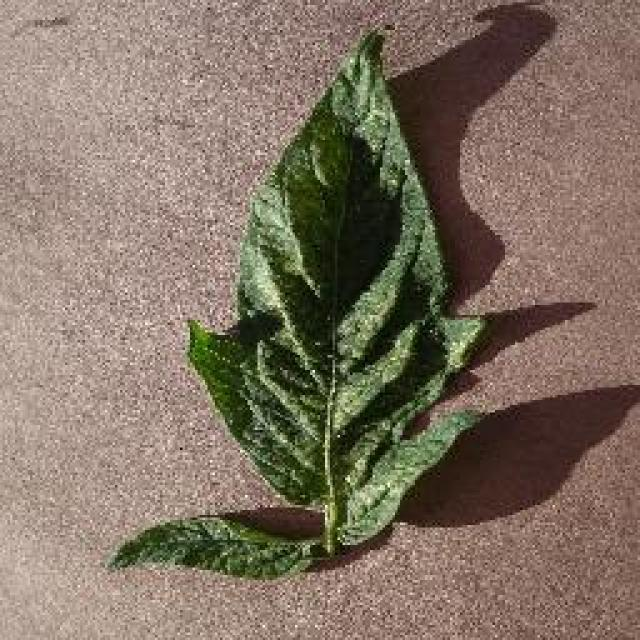Tomato mosaic virus leaf: (189, 24, 476, 538), (109, 512, 329, 592)
